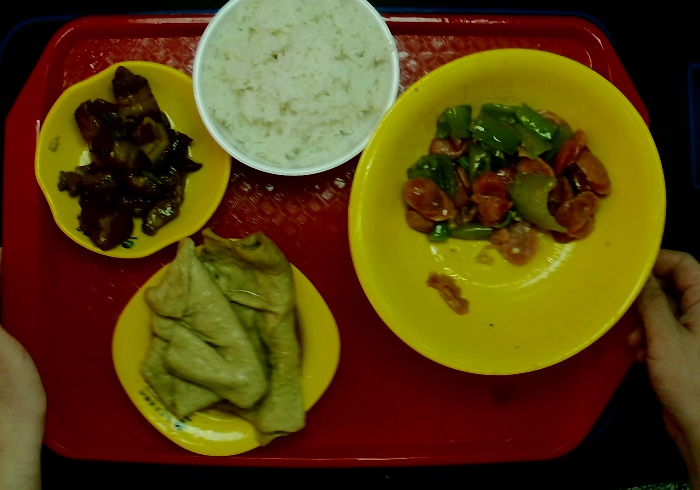YKMZ-Fan_Wan: (190, 1, 402, 177)
YKMZ-Huang_Se_Ao_Bian_Wan: (35, 63, 236, 262)
YKMZ-Huang_Se_Fang_Die: (109, 239, 342, 458)
YKMZ-Huang_Se_Tang_Wan: (345, 43, 667, 378)
